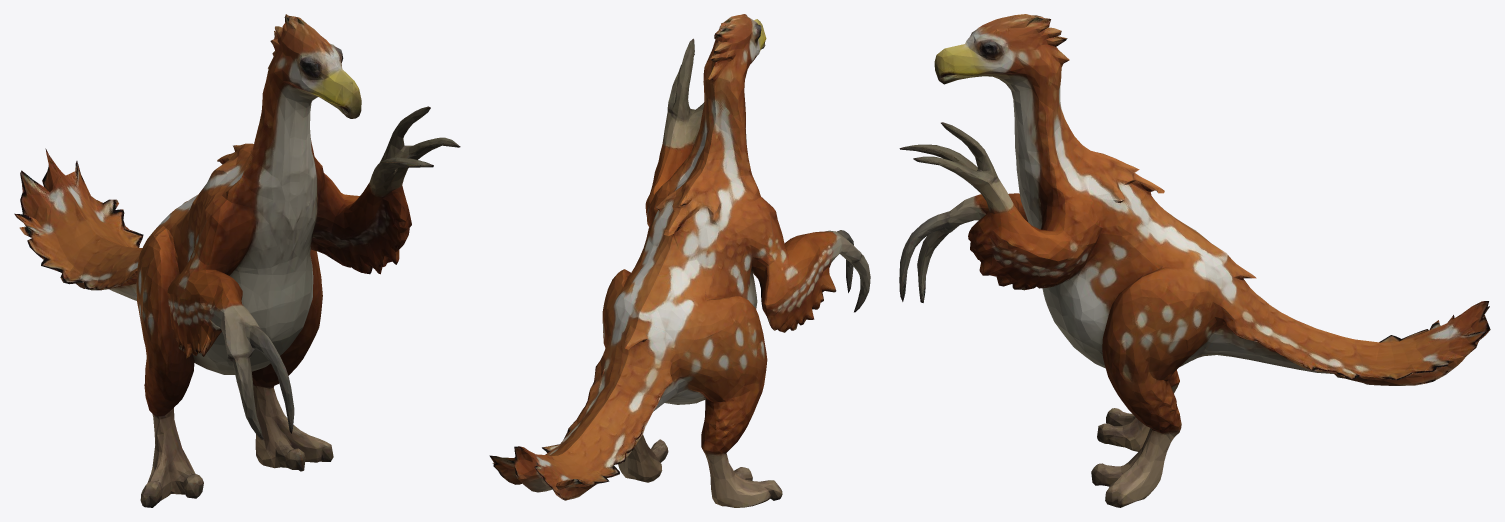
The model's file is therizinosaurus.glb.
The picture shows the model from 3 angles, left to right: view 1: azimuth 30°, elevation 25°; view 2: azimuth 150°, elevation 25°; view 3: azimuth 270°, elevation 25°; orthographic projection. The views are drawn at different scales.
Visible parts, largest first — view 1: geometry_0; view 2: geometry_0; view 3: geometry_0.
Boxes of the visible parts, x1,y1,x2,y2 form: geometry_0: (14, 14, 460, 507); geometry_0: (489, 14, 870, 507); geometry_0: (899, 14, 1490, 507).
Bounding box in the file's own units: 0.3873 × 0.8553 × 0.9939.
1 material, 1 textured.
